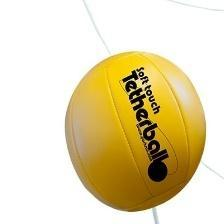Sports-Ball: (60, 50, 208, 215)
